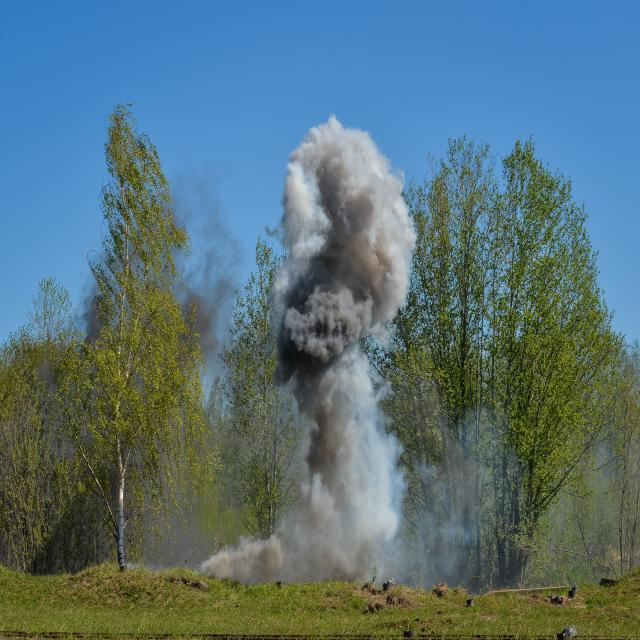Smoke: (159, 117, 507, 588)
